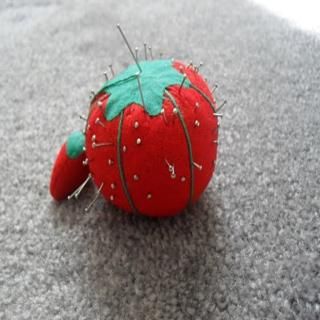tomato: (85, 61, 219, 215), (47, 127, 87, 201)
